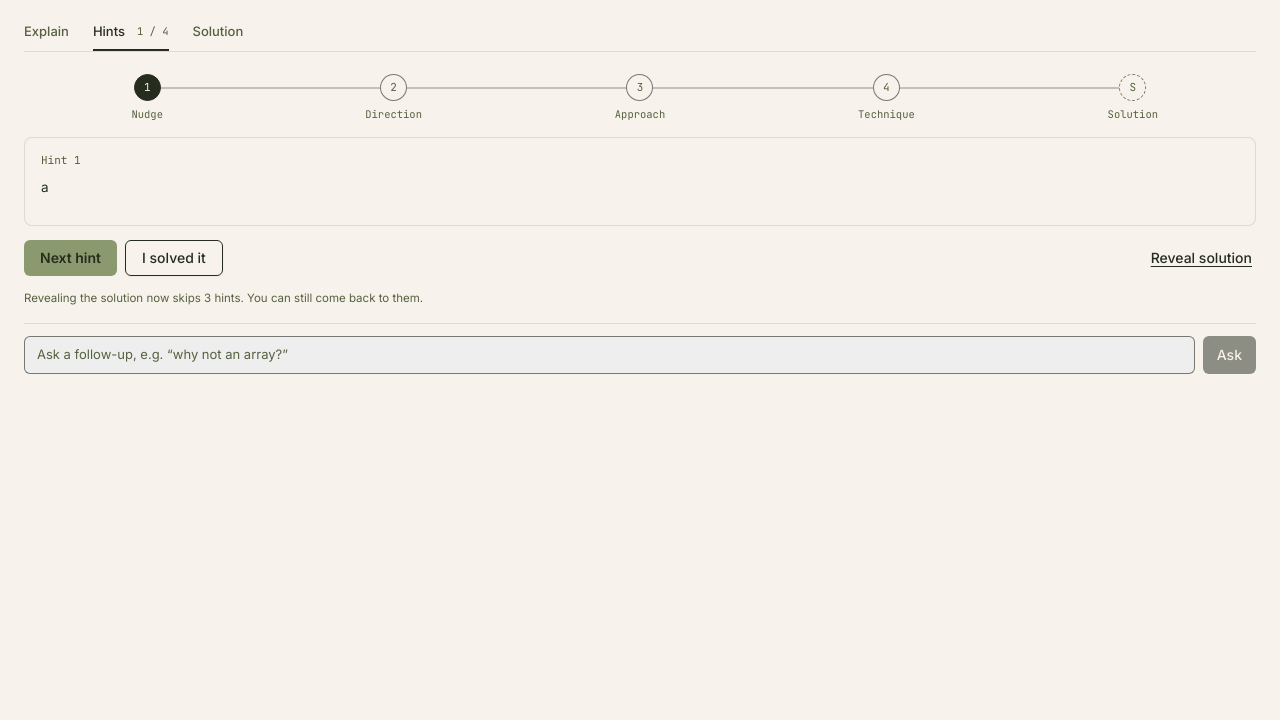
MentorPanel › revealDialogReturnsFocusToItsButton
Step 1. Click the button "Reveal solution" → (1201, 258), box top-left (1147, 240), bottom-right (1256, 276)
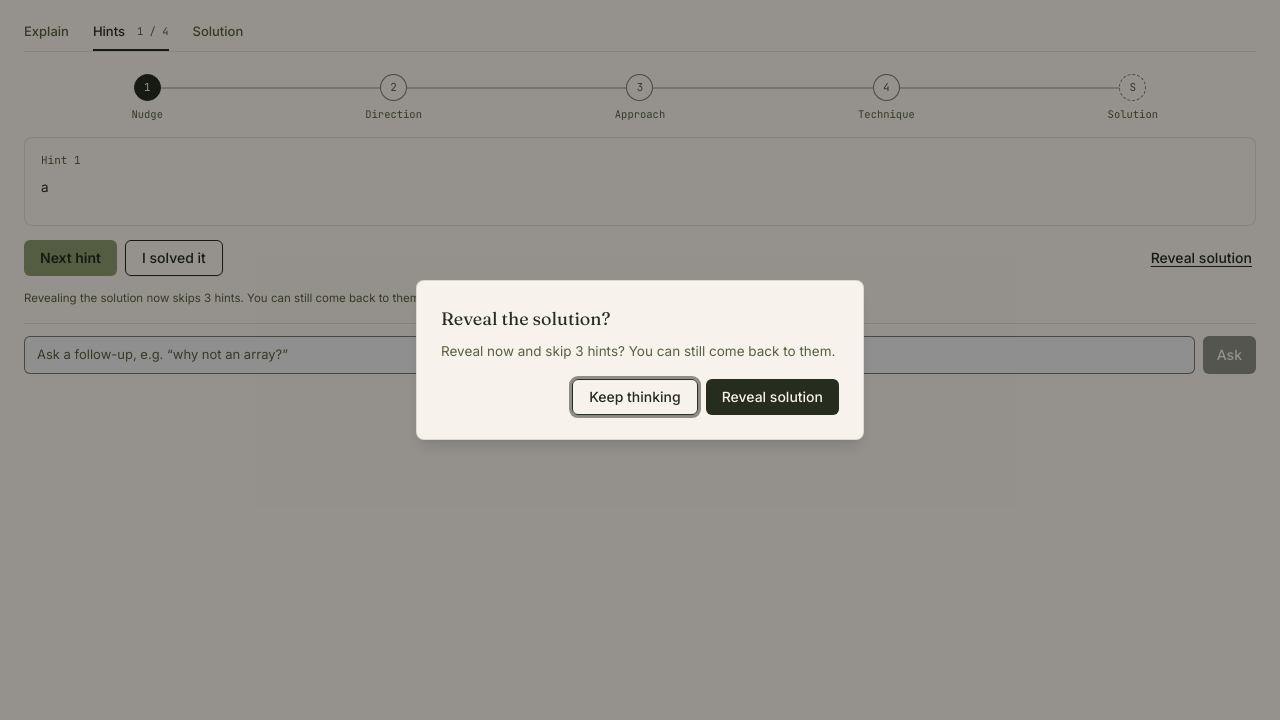
Result: the dialog is shown at top-left (416, 280), bottom-right (864, 440)
Step 2. Press Escape
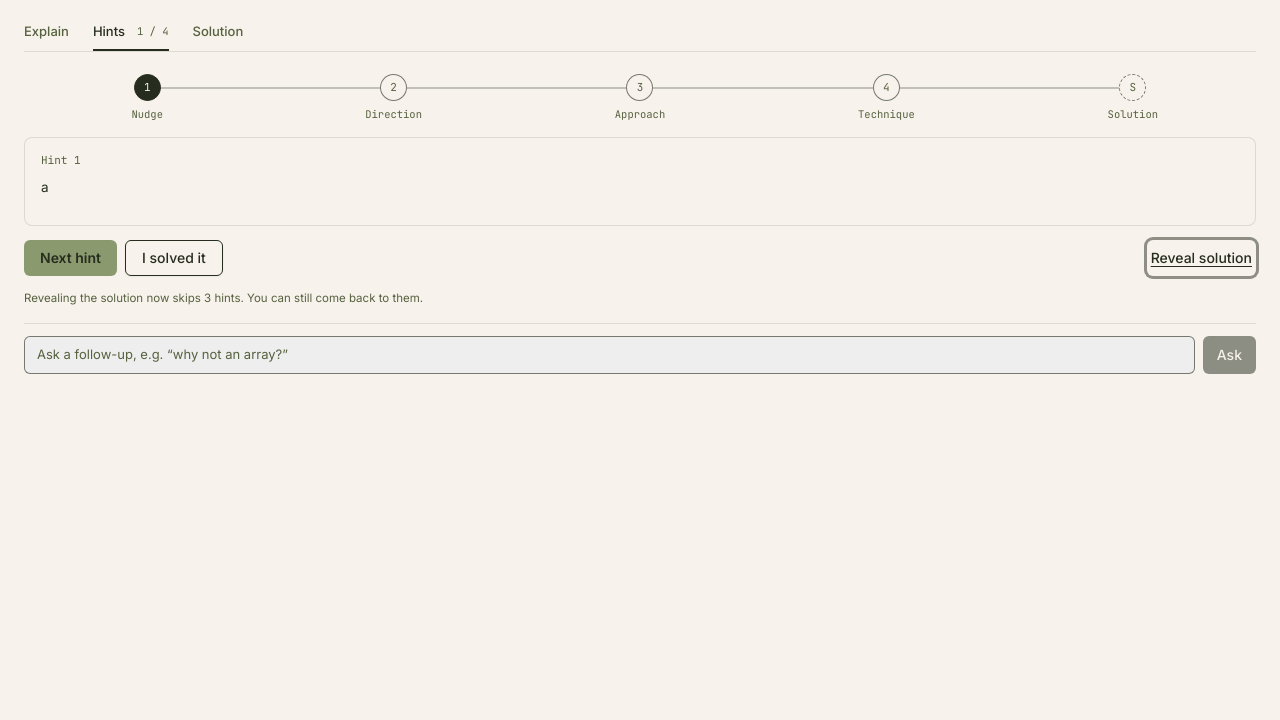
Result: the dialog is gone
